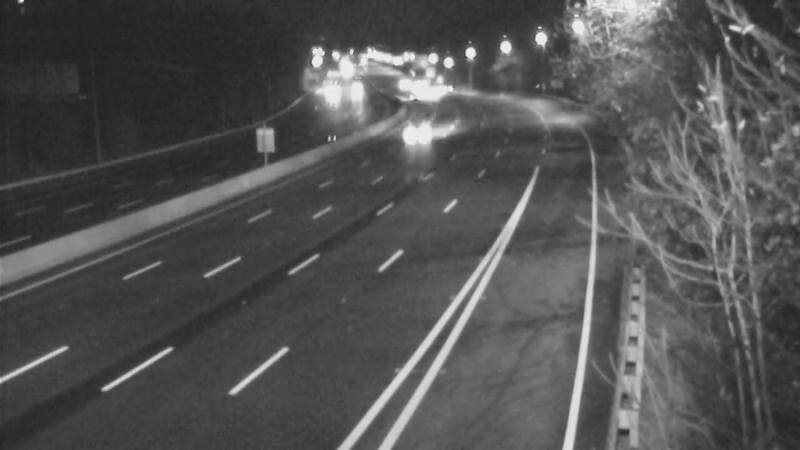vehicle: (403, 69, 453, 119), (389, 70, 439, 120), (394, 107, 444, 157), (302, 69, 352, 119), (330, 66, 380, 116)
